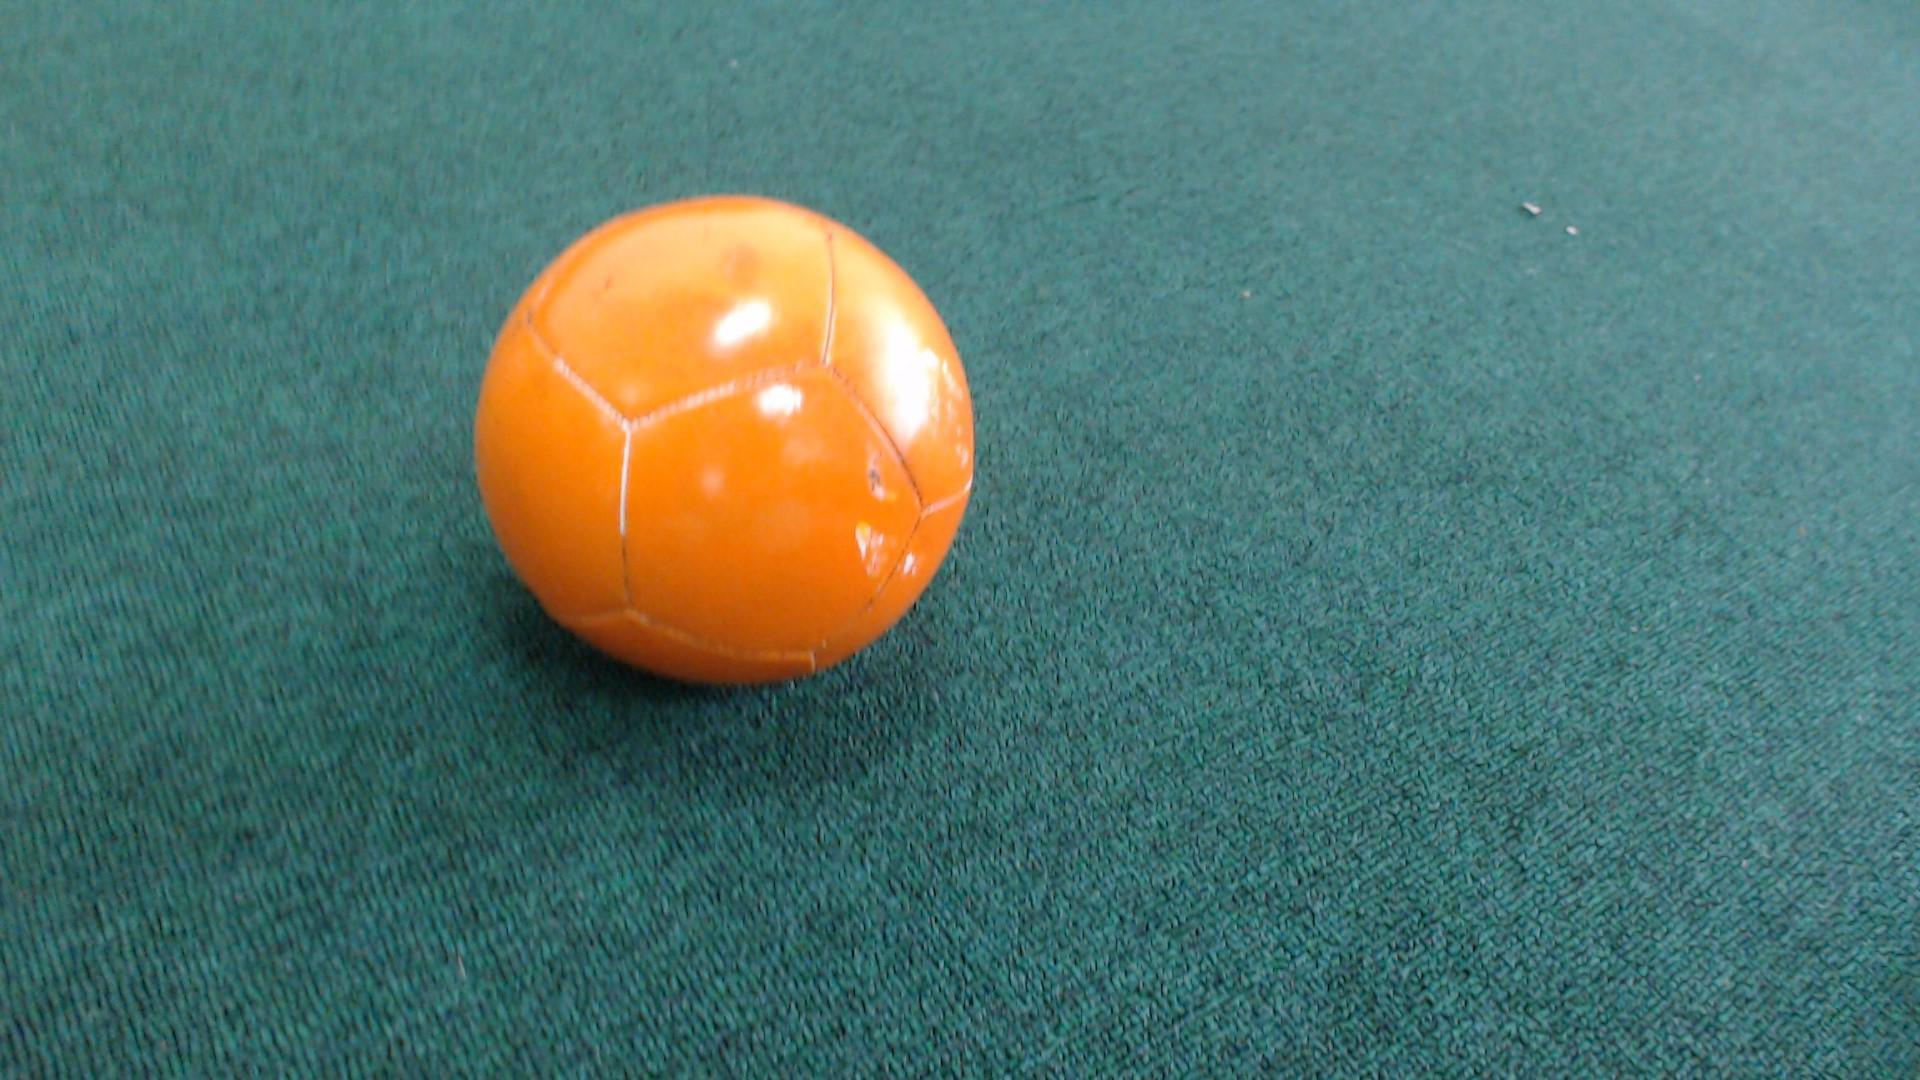bola: (451, 175, 1018, 702)
